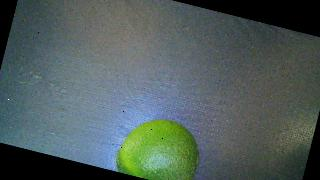EXPORTACION: (113, 110, 206, 180)
